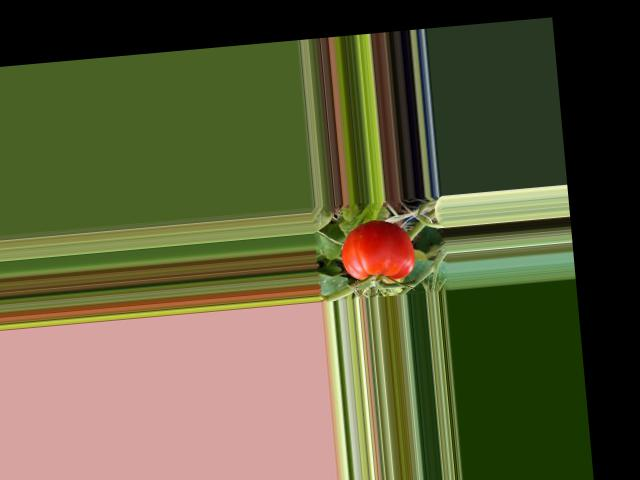tomato: (339, 217, 417, 283)
